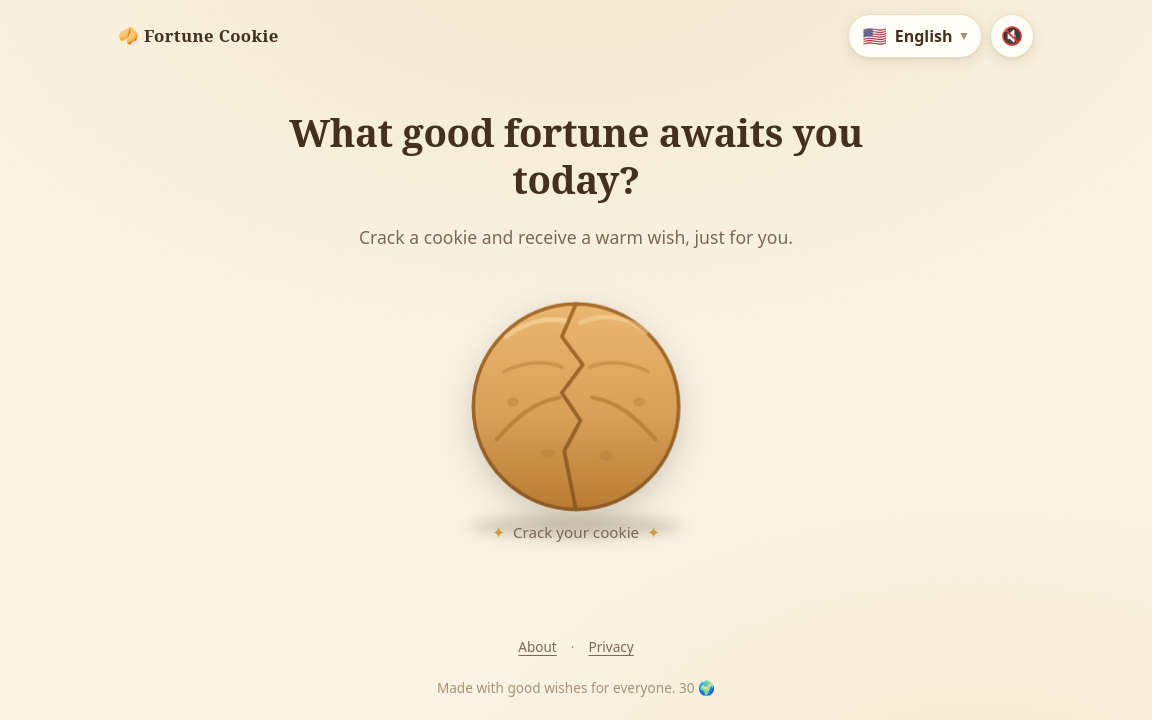
Test: Fortune Cookie experience › downloads a fortune card and confirms with feedback
The width and height of the screenshot is (1152, 720).
Click the button with test id "cookie" at (576, 406), box left=416, top=273, right=736, bottom=540
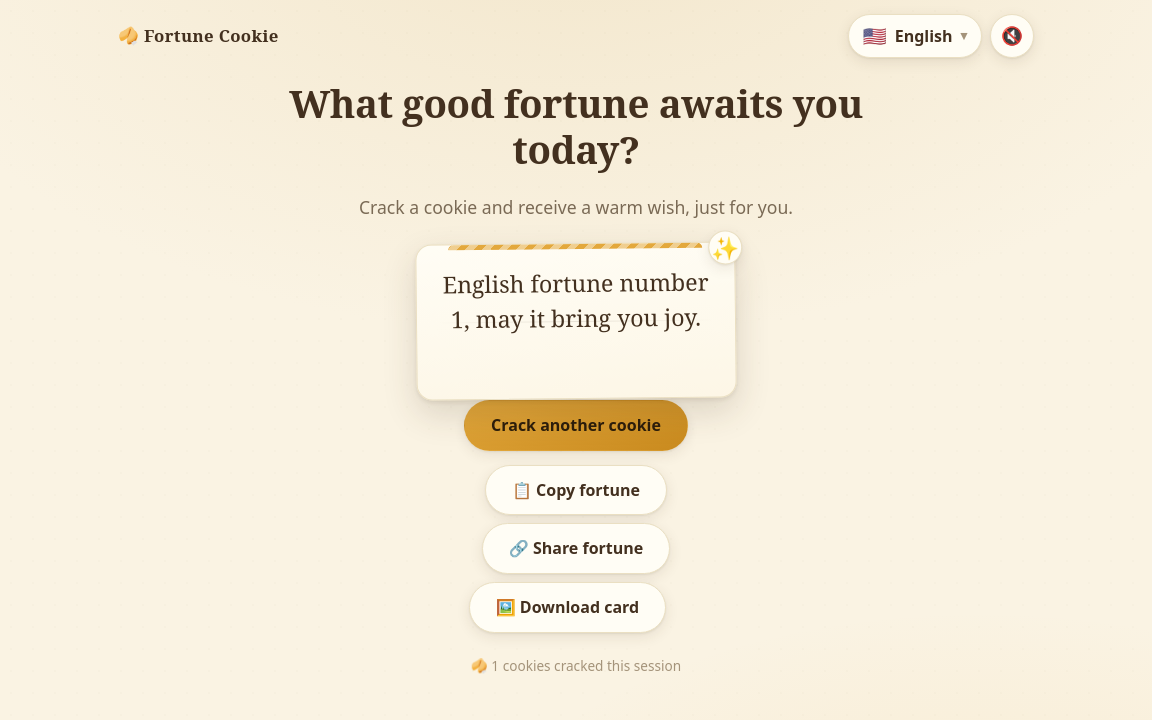
Click the button with test id "download-card-btn" at (567, 608), box left=469, top=582, right=666, bottom=633
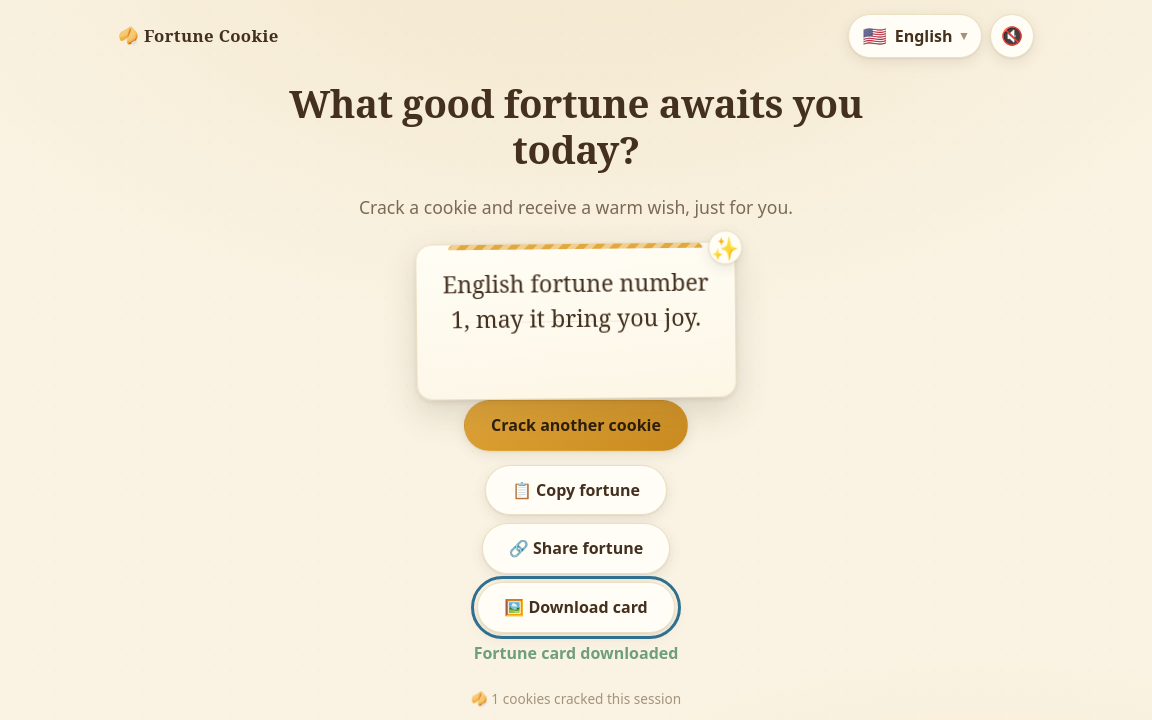
Expected: the text with test id "copy-feedback" shows "Fortune card", left=474, top=642, right=678, bottom=664
